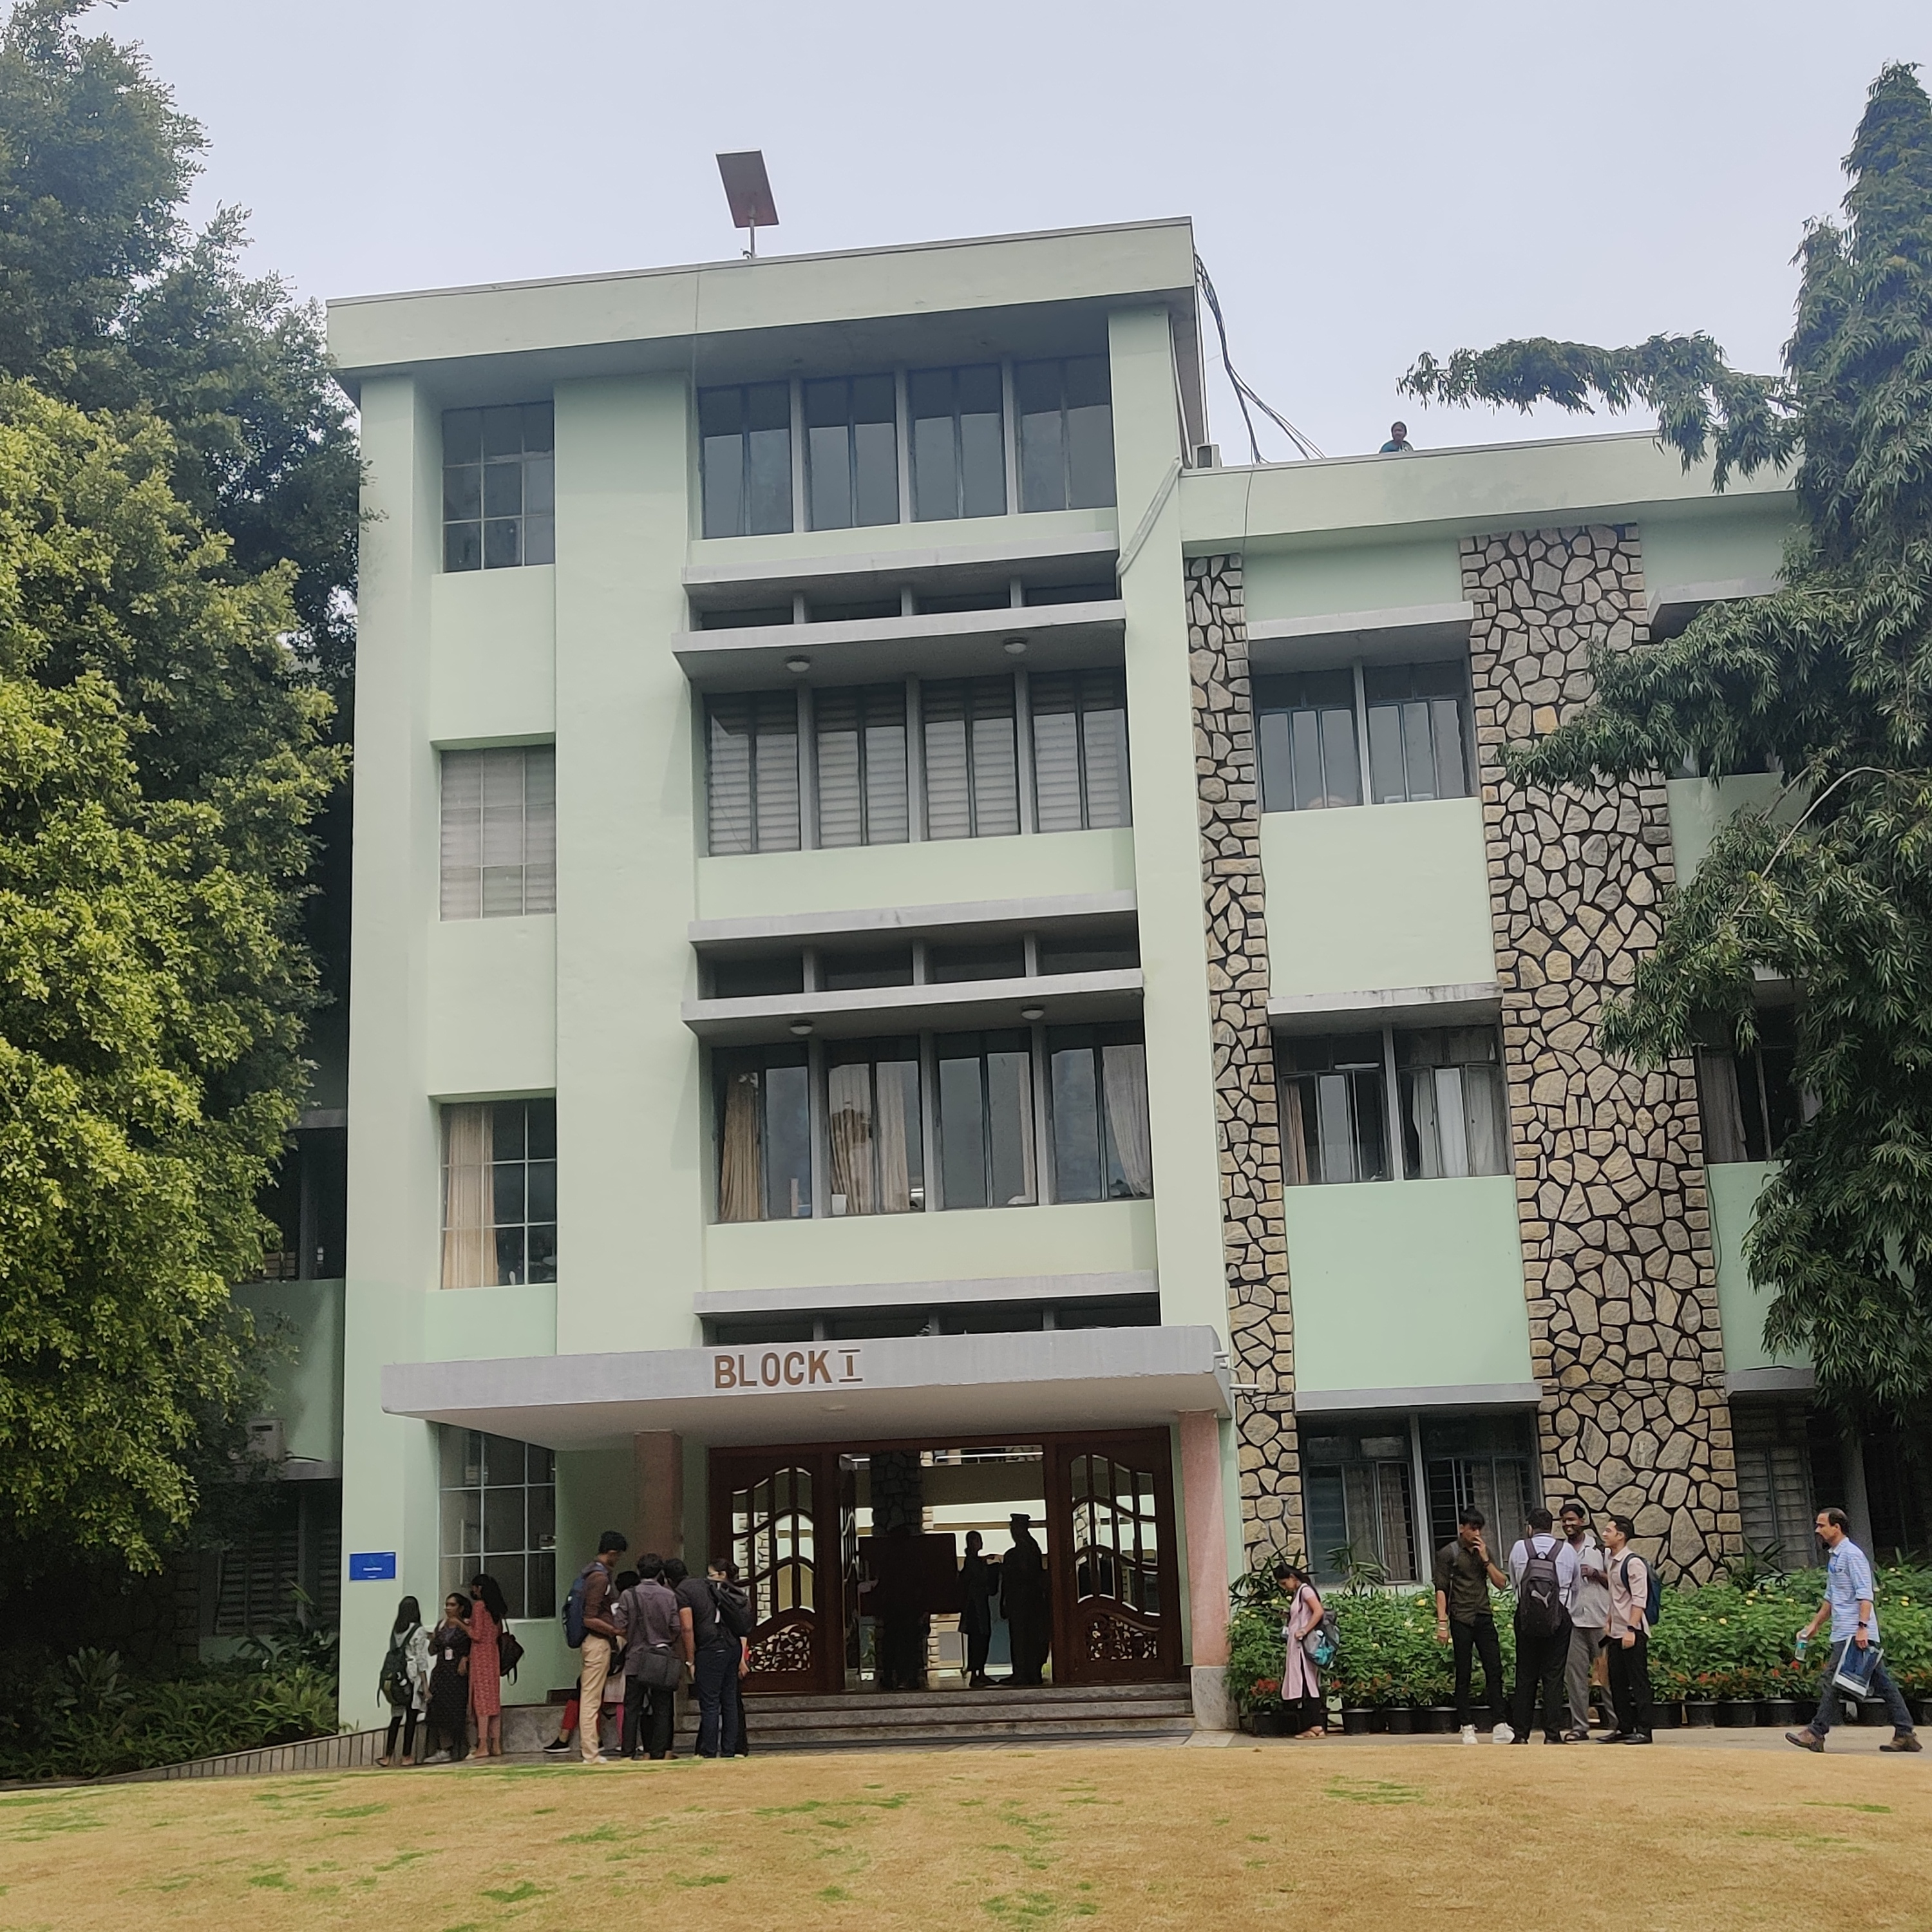Block 1: (322, 265, 1835, 1757)
